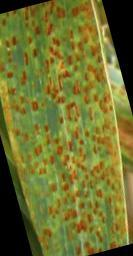Wheat: (6, 23, 94, 91), (41, 158, 119, 233), (16, 96, 111, 154)
